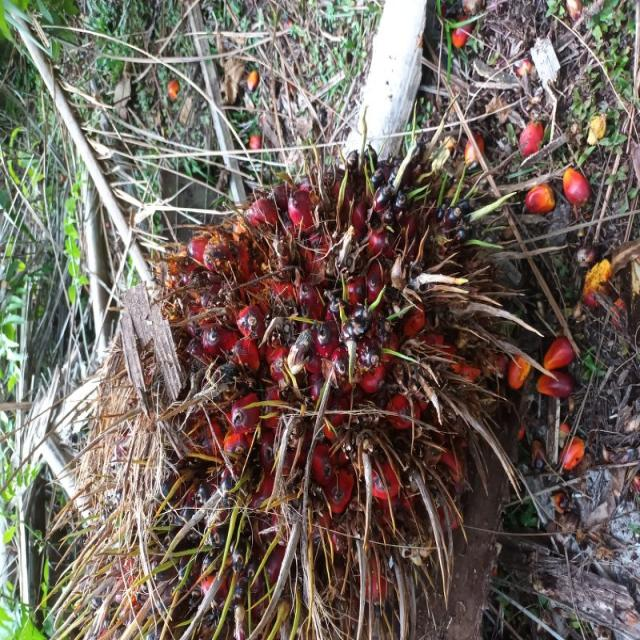fraksi 3: (0, 81, 366, 640)
